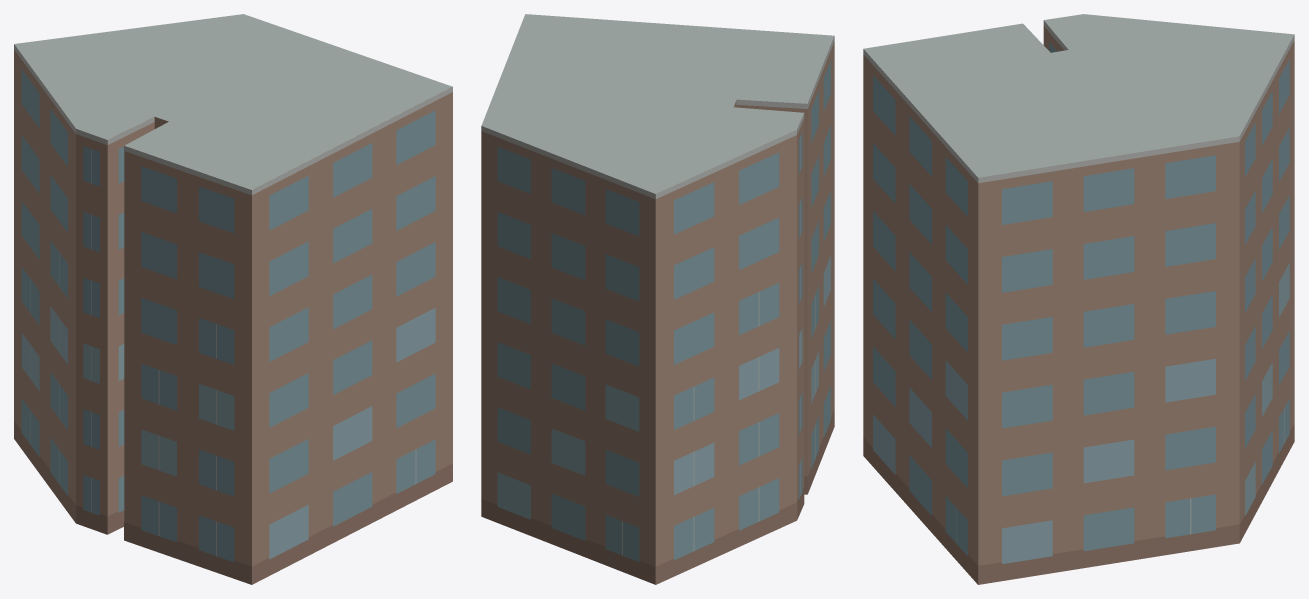
File: survey-upis-32856898.glb
3 renders of one model, left to right at view 1: azimuth 30°, elevation 25°; view 2: azimuth 150°, elevation 25°; view 3: azimuth 270°, elevation 25°, orthographic. The views are drawn at different scales.
Parts seen in each view (by area): view 1: survey-upis-32856898.tmp; view 2: survey-upis-32856898.tmp; view 3: survey-upis-32856898.tmp.
Boxes of the visible parts, x1,y1,x2,y2 form: survey-upis-32856898.tmp: [14, 14, 452, 584]; survey-upis-32856898.tmp: [481, 14, 834, 584]; survey-upis-32856898.tmp: [863, 14, 1294, 584].
Bounding box in the file's own units: 15.81 × 18.3 × 17.59.
